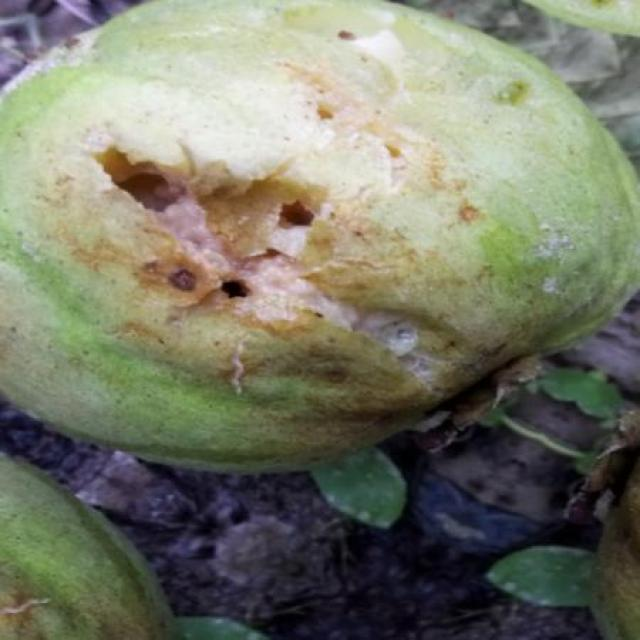Styler and Root: (0, 0, 640, 468)
